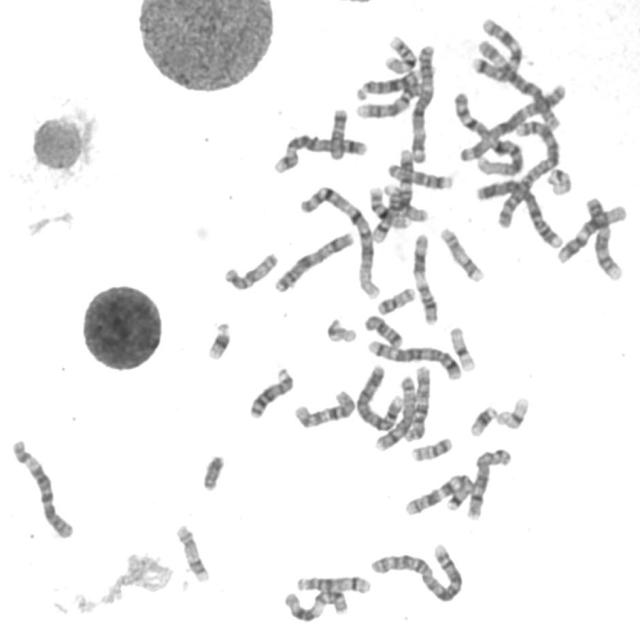A1: (296, 182, 380, 302), (449, 87, 526, 180)
A2: (494, 116, 562, 231), (366, 541, 464, 604)
A3: (454, 79, 570, 164), (407, 42, 437, 166)
B4: (472, 177, 565, 250), (354, 363, 406, 433)
B5: (270, 130, 370, 176), (364, 337, 464, 382)
C10: (290, 386, 357, 430), (403, 361, 432, 443)
C11: (409, 229, 440, 327), (279, 586, 349, 624)
C12: (554, 200, 630, 266), (395, 142, 430, 223)
C6: (474, 38, 564, 132), (8, 434, 76, 540)
C7: (469, 14, 525, 83), (401, 469, 476, 518)
C8: (464, 445, 515, 523), (374, 372, 419, 452)
C9: (583, 193, 626, 284), (353, 78, 424, 120)
D13: (248, 364, 299, 422), (352, 67, 423, 101)
D14: (370, 180, 405, 243), (296, 572, 377, 596)
D15: (220, 248, 280, 293), (386, 160, 458, 191)
E16: (368, 186, 410, 228), (382, 31, 420, 75)
E17: (438, 223, 487, 285), (174, 521, 212, 585)
E18: (362, 310, 405, 350), (326, 105, 351, 162)
F19: (446, 323, 478, 374), (492, 392, 532, 431)
F20: (374, 284, 418, 316), (408, 433, 454, 463)
G21: (204, 317, 234, 363), (466, 402, 498, 438)
G22: (325, 319, 359, 343), (545, 167, 572, 196)
X: (271, 228, 357, 295)
Y: (198, 452, 226, 492)
